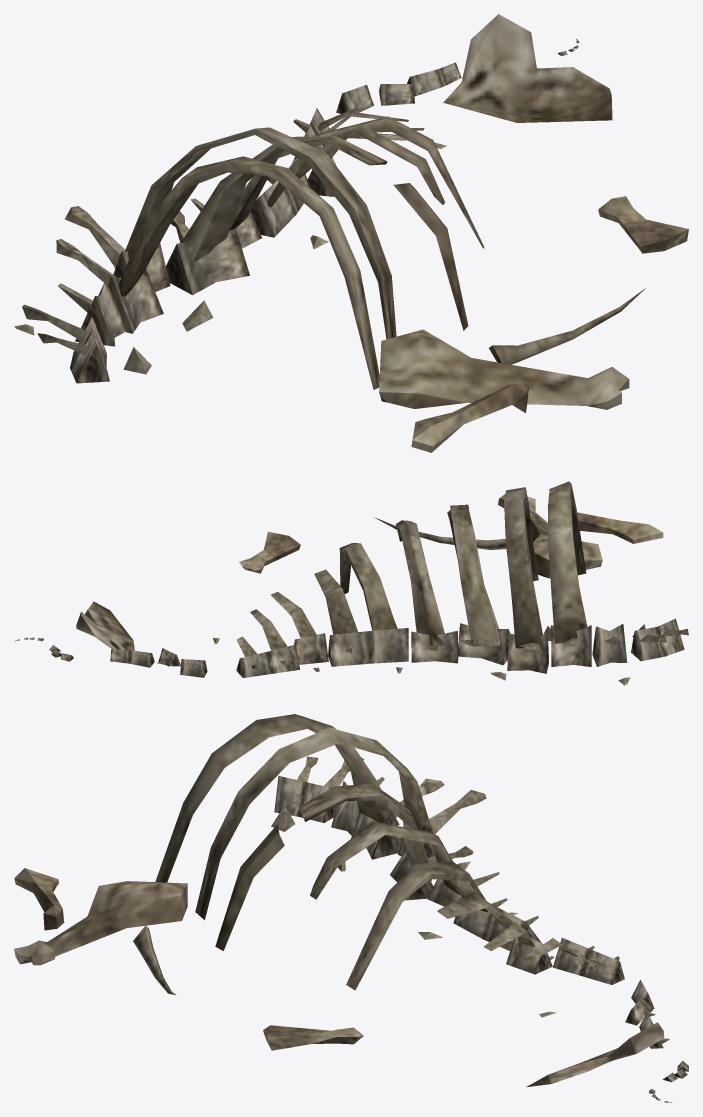
Rendered from obj_small_048.FBX.
3 views of the same model, one above another, from view 1: azimuth 30°, elevation 25°; view 2: azimuth 150°, elevation 25°; view 3: azimuth 270°, elevation 25° (orthographic). The views are drawn at different scales.
Parts seen in each view (by area): view 1: obj_small_048_01; view 2: obj_small_048_01; view 3: obj_small_048_01.
Boxes of the visible parts, <box> form: obj_small_048_01: <box>14,14,688,452</box>; obj_small_048_01: <box>15,481,688,685</box>; obj_small_048_01: <box>14,714,688,1102</box>.
Bounding box in the file's own units: 11.91 × 3.1 × 10.93.
